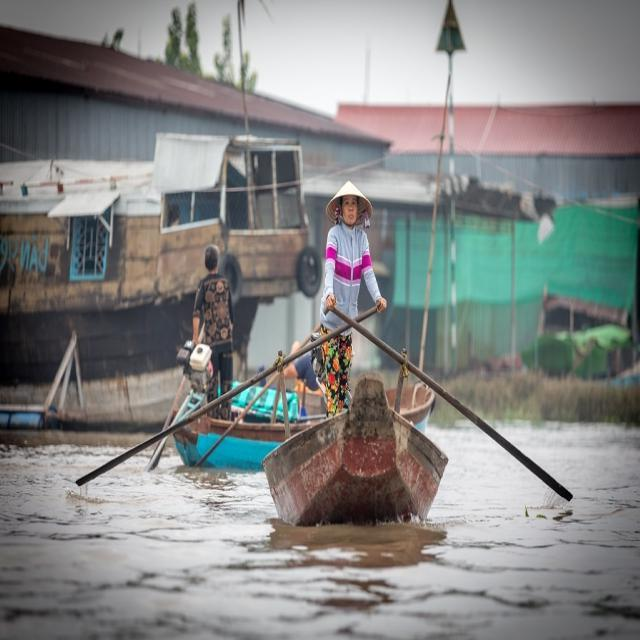boat: (276, 380, 442, 540)
